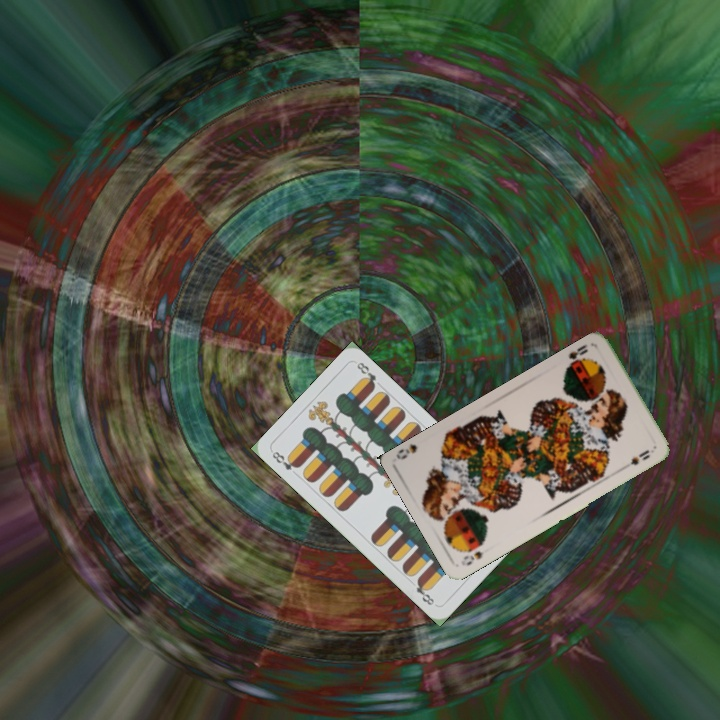E8: (268, 447, 302, 473)
SO: (561, 340, 591, 373), (459, 547, 486, 568)
